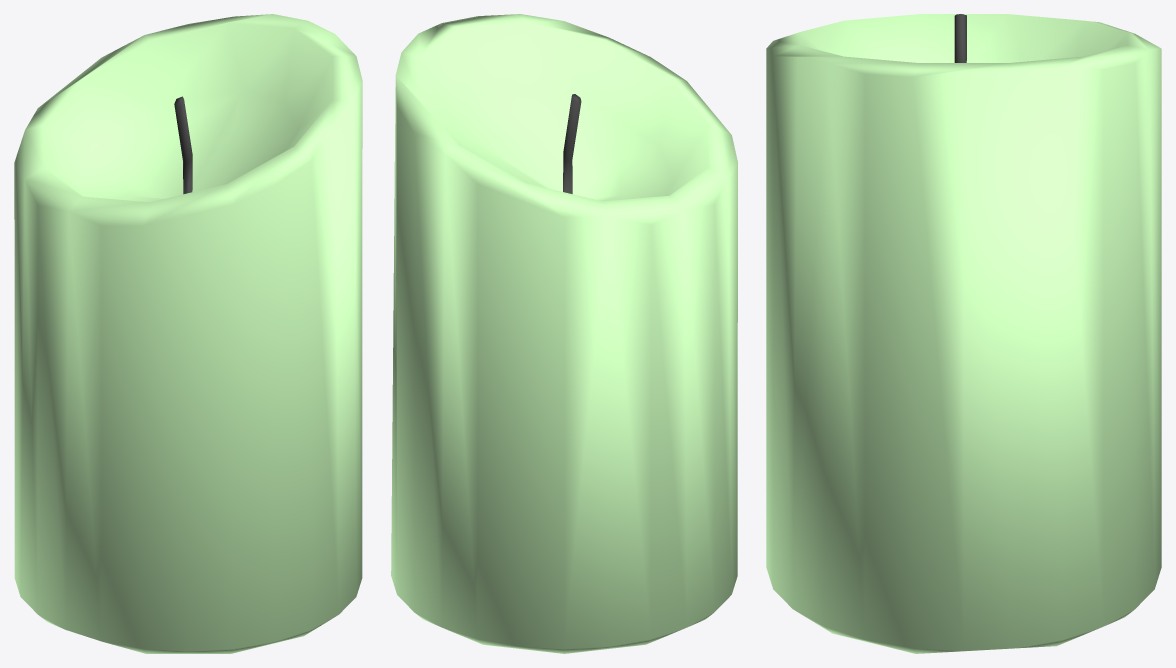
The model's file is Candle_1.glb.
3 views of the same model, side by side, from view 1: azimuth 30°, elevation 25°; view 2: azimuth 150°, elevation 25°; view 3: azimuth 270°, elevation 25° (orthographic). The views are drawn at different scales.
Bounding box in the file's own units: 0.05 × 0.0821 × 0.05.
